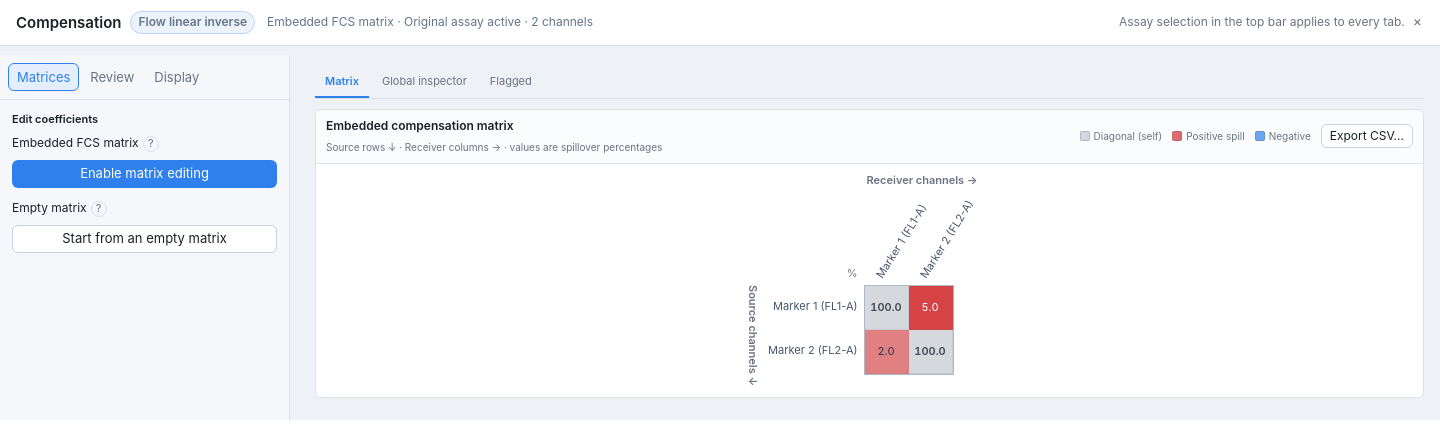
Test case: CompensationTab common path › keeps the left column's explanations behind its ? hints, in side tabs as the other panes have
The image size is (1440, 437).
Click the button "Review" at (112, 77), box left=81, top=63, right=143, bottom=91
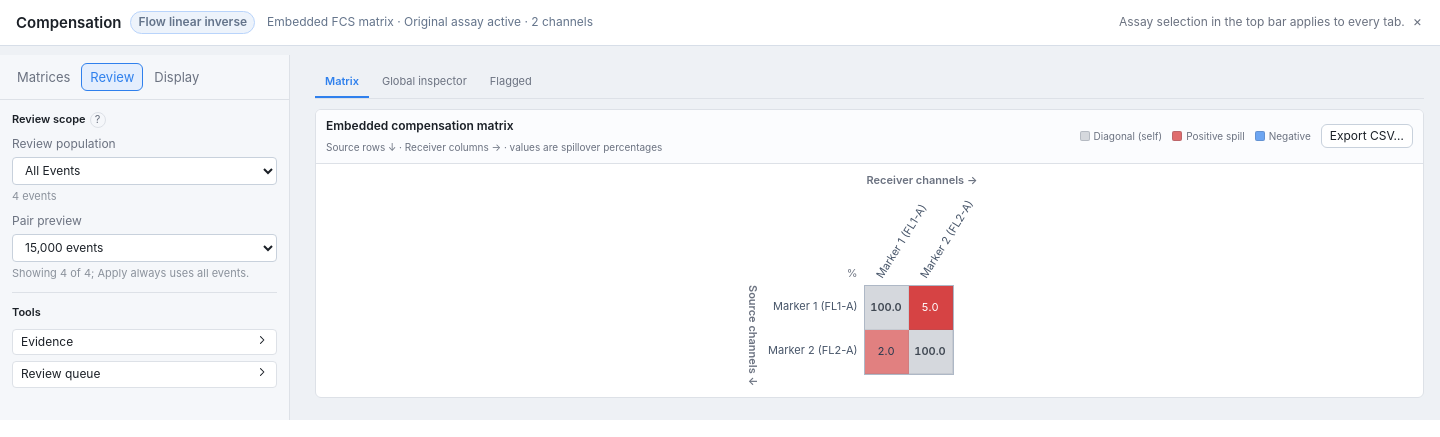
Expected: the text "Review population 4 events" is shown, left=12, top=136, right=277, bottom=203
